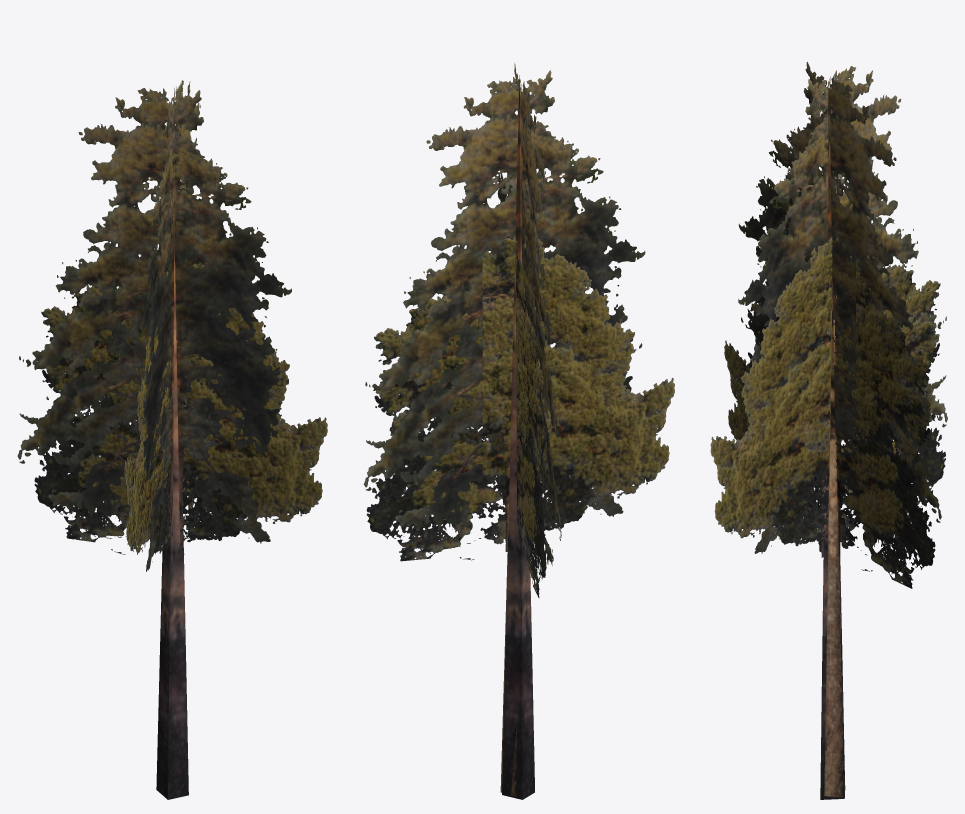
The model's file is lowpoly_trees_2.glb.
3 renders of one model, left to right at view 1: azimuth 30°, elevation 25°; view 2: azimuth 150°, elevation 25°; view 3: azimuth 270°, elevation 25°, orthographic. The views are drawn at different scales.
Parts seen in each view (by area): view 1: Tree.002, Tree.001; view 2: Tree.002, Tree.001; view 3: Tree.001, Tree.002.
Boxes of the visible parts, x1,y1,x2,y2 form: Tree.002: (17, 80, 291, 799); Tree.001: (34, 255, 327, 554); Tree.002: (363, 63, 645, 799); Tree.001: (366, 236, 674, 796); Tree.001: (710, 237, 945, 797); Tree.002: (738, 62, 947, 799).
Size of the model in its own units: 3.58 by 11.96 by 3.61.
2 materials, 2 textured.
